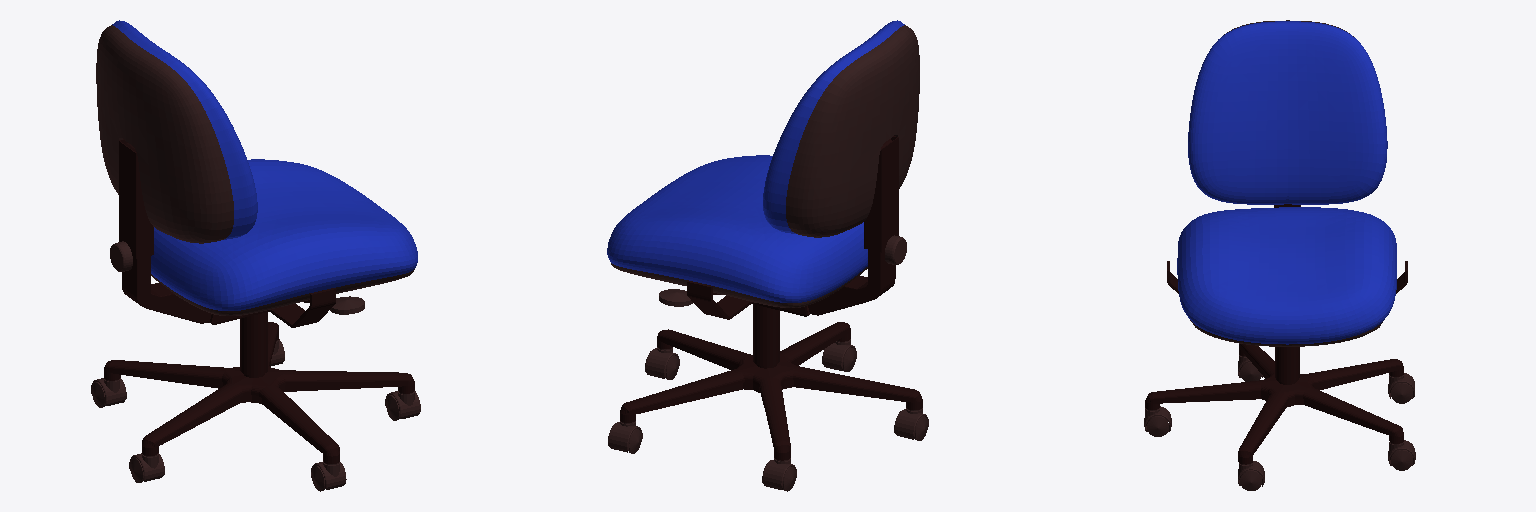
The robot description file, URDF, robot "lab_chair_3":
<?xml version="1.0"?>
<robot name="lab_chair_3">
	<link name="base">
        <inertial>
        	<origin xyz="0 0 0" rpy="0 0 0"/>
        	<mass value="0.05"/>
            <inertia ixx="0.000683333"  ixy="0"  ixz="0" iyy="0.000683333" iyz="0" izz="0.000683333" />
        </inertial>
        <visual>
            <!--origin xyz="0.001 0.00288 -0.013" rpy="0 0 0" /-->
            <origin xyz="0.0 0.0 0.0" rpy="0 0 0" />
            <geometry>
                <mesh filename="ioclab_files/chair.dae" scale="1 1 1"/>
            </geometry>
            <!--
            <material>
                <color rgba="1 0 0 1" />
            </material>
            -->
        </visual>
        <collision>
            <geometry>
                <mesh filename="ioclab_files/chair.dae" scale="1 1 1"/>
            </geometry>
            <material>
                <color rgba="1 0 0 1" />
            </material>
        </collision>
	</link>
</robot>

--- What the picture shows (computed from the rendered views, not written in the file) ---
The picture shows the robot from 3 angles, left to right: view 1: azimuth 30°, elevation 25°; view 2: azimuth 150°, elevation 25°; view 3: azimuth 270°, elevation 25°; orthographic projection.
Model lab_chair_3 with 1 links and 0 joints (none), rooted at base, posed every joint at zero.
Links seen in each view (by area): view 1: base; view 2: base; view 3: base.
Boxes of the visible links, x1=… form: base: x1=91, y1=20, x2=420, y2=491; base: x1=607, y1=20, x2=928, y2=491; base: x1=1144, y1=20, x2=1415, y2=490.
Size in the robot's own frame: 0.643 by 0.6138 by 0.91 metres.
1 mesh visuals loaded from 1 distinct referenced files (1 Collada DAE).
